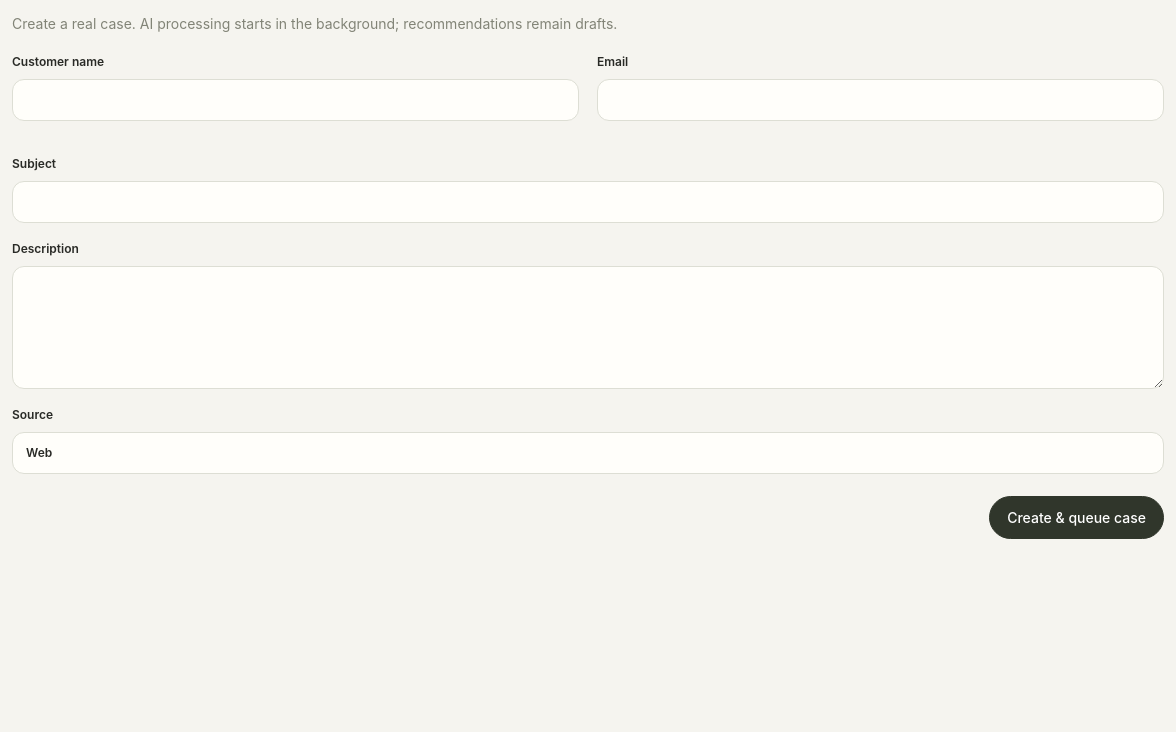
operator workflows › shows API failure without reporting success
Type "Alex" into the field labelled "Customer name".
click(296, 100); type("Alex")  # box top-left (12, 79), bottom-right (579, 121)
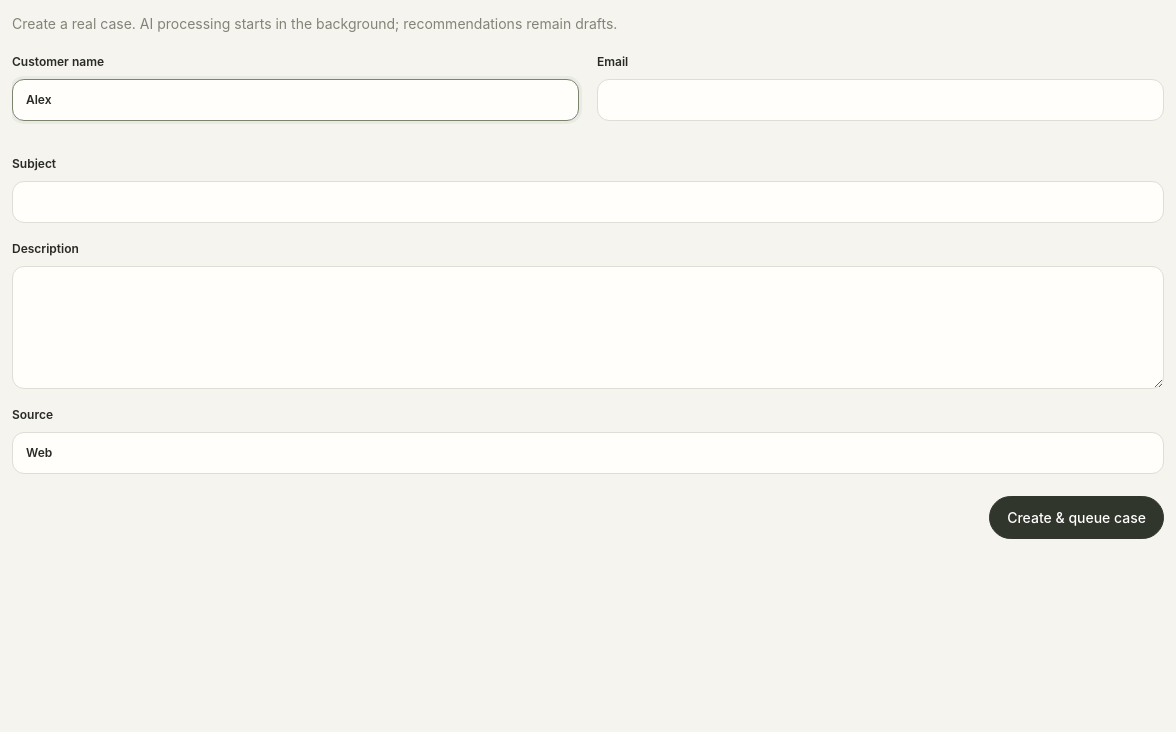
Type "alex@example.test" into the field labelled "Email".
click(880, 100); type("alex@example.test")  # box top-left (597, 79), bottom-right (1164, 121)
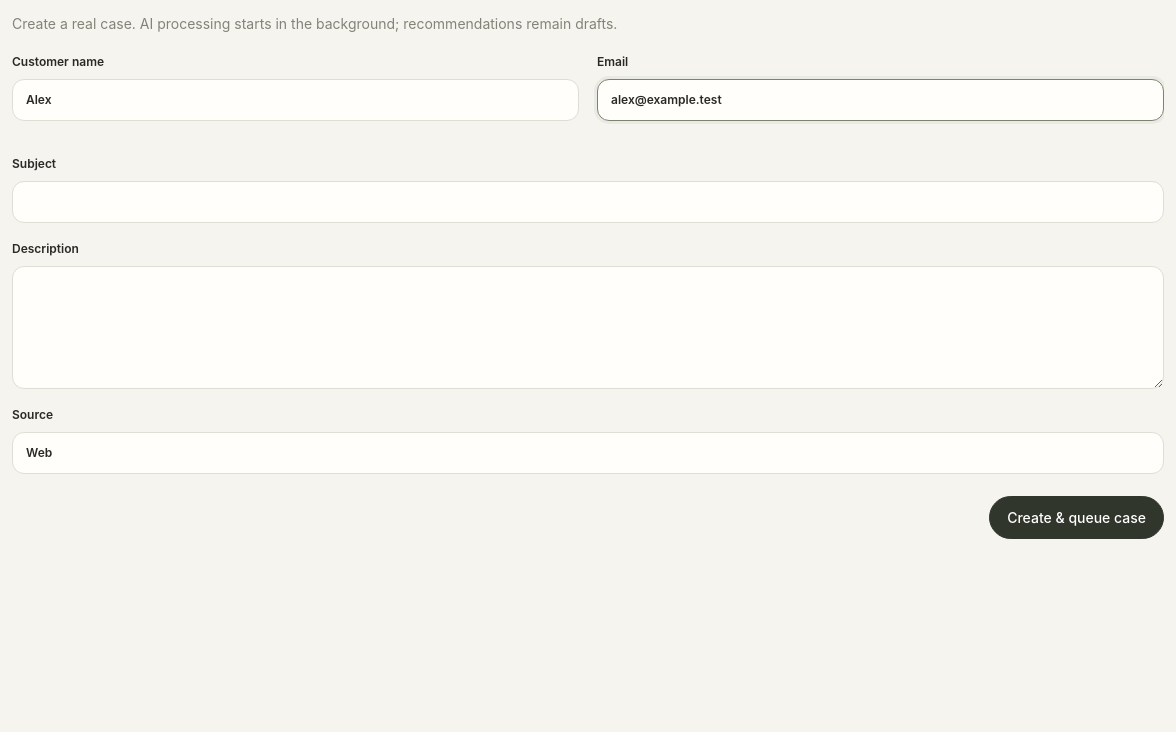
Type "Test request" into the field labelled "Subject".
click(588, 202); type("Test request")  # box top-left (12, 181), bottom-right (1164, 223)
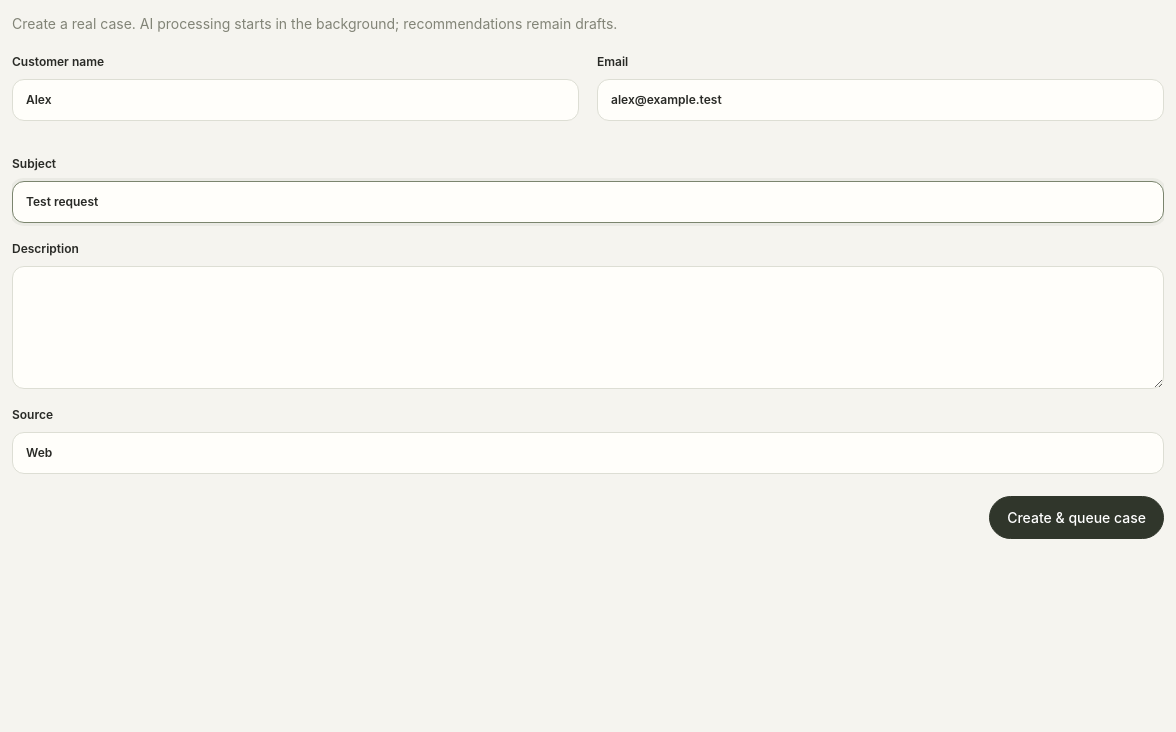
Type "A longer valid description" into the text box labelled "Description".
click(588, 327); type("A longer valid description")  # box top-left (12, 266), bottom-right (1164, 389)
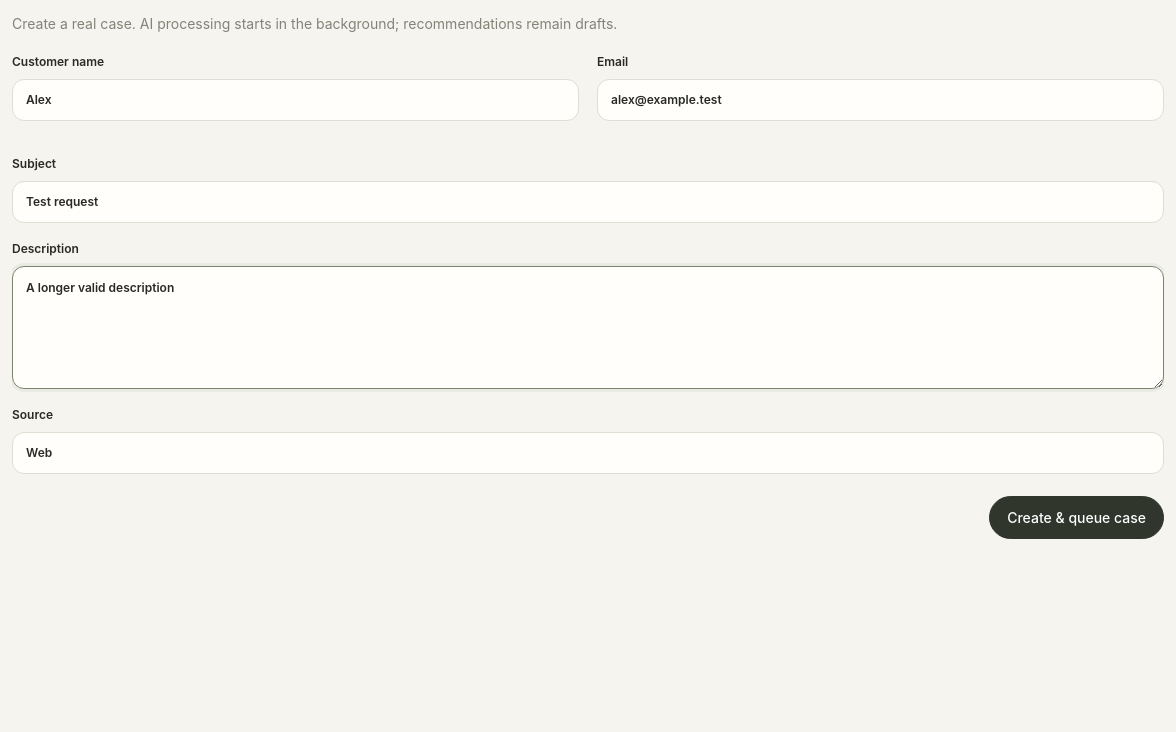
Click the button "Create & queue case".
click(1077, 517)  # box top-left (989, 496), bottom-right (1164, 539)
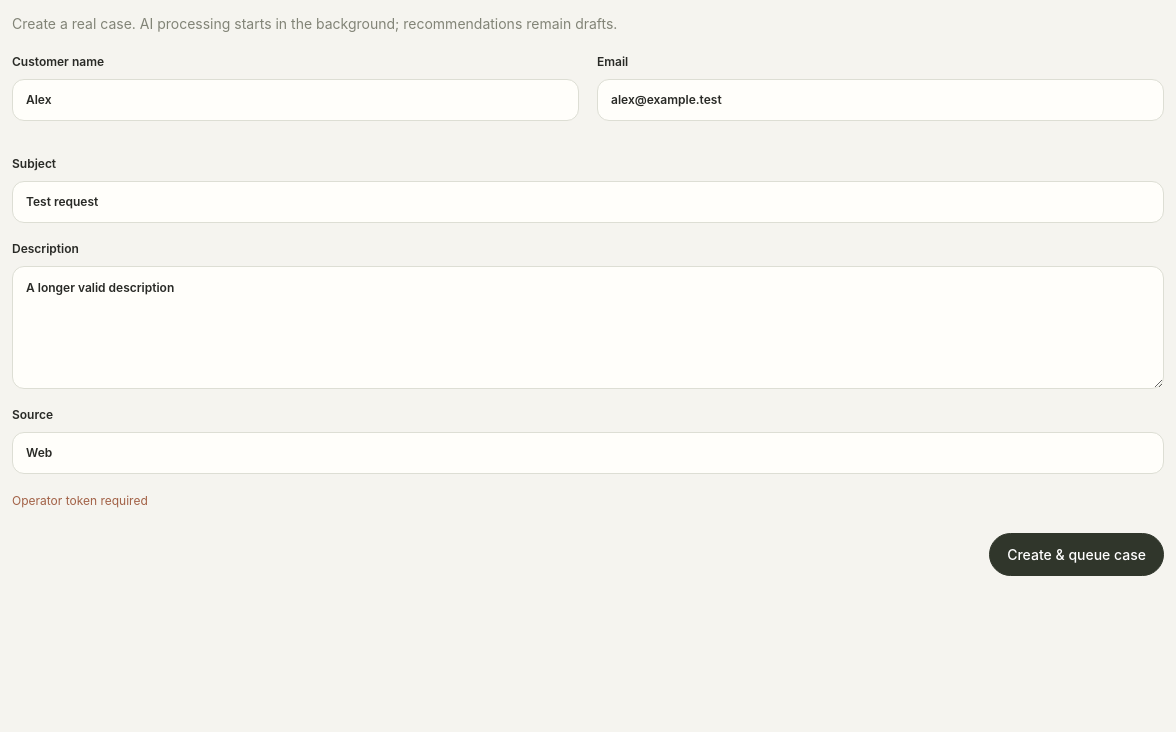
Now the message reads "Operator token required", box top-left (12, 493), bottom-right (148, 508)
